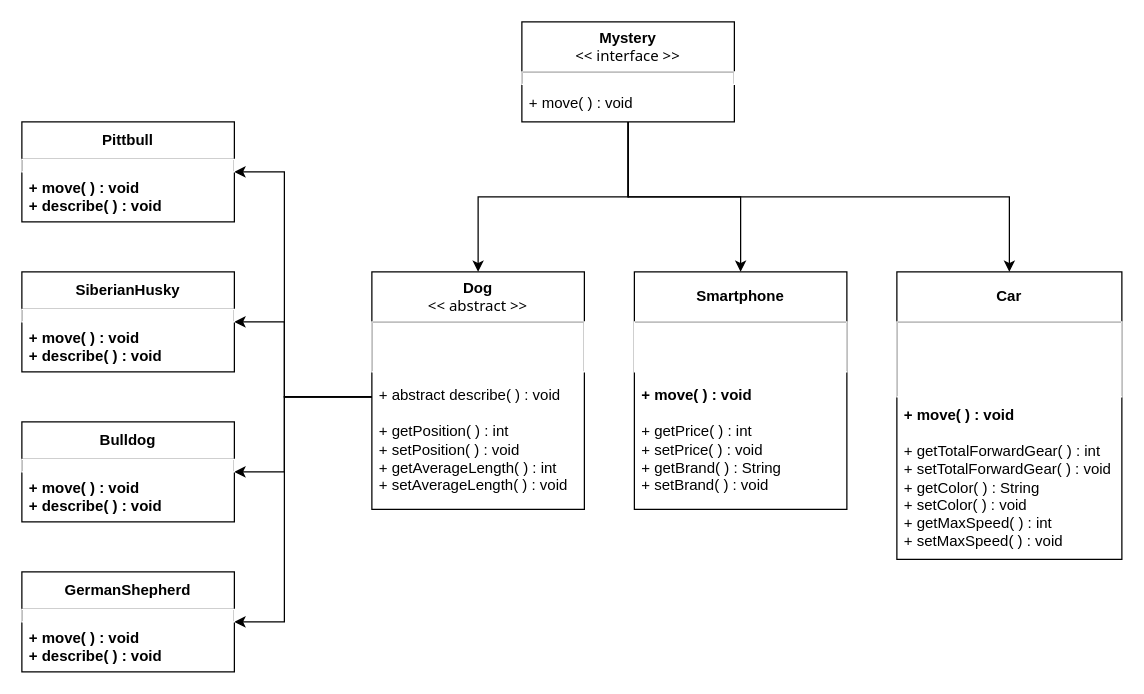
Some shapes in this 1144 by 694 pixel diagram are drawn without their labels. The shapes that lost their labels are listed below. From the top down, each one's centre as x and y in pixels, then its label:
At [477,346]: "+ position : int + averageLength : int".
At [740,346]: "+ price : int + brand : String".
At [1009,359]: "+ totalForwardGear : int + color : String + maxSpeed : int".
